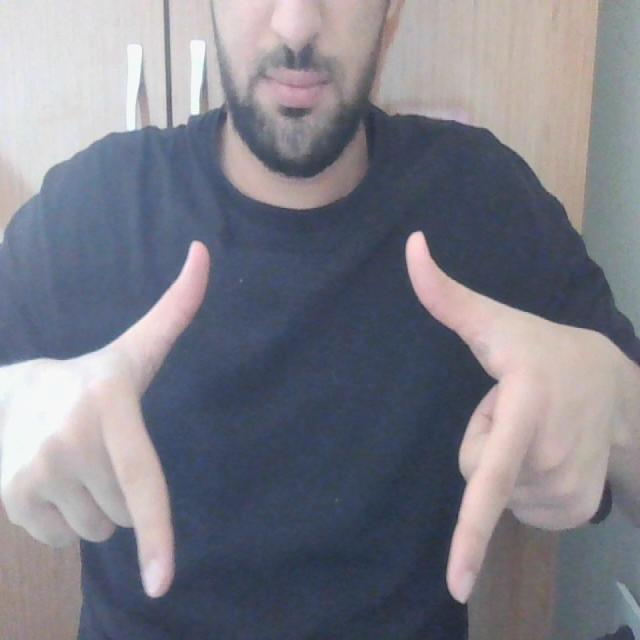Nerede: (98, 222, 552, 603)
